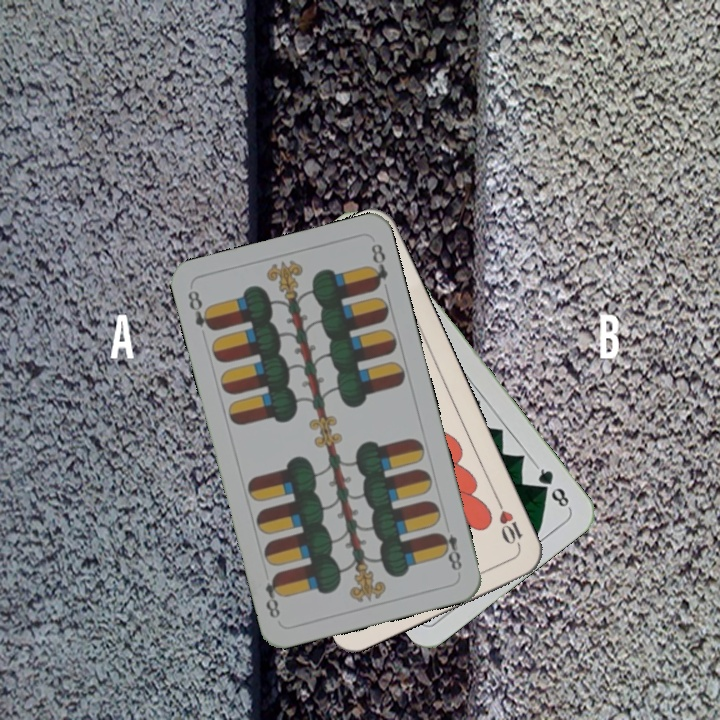E8: (184, 286, 217, 334), (434, 528, 465, 574)
G8: (531, 461, 573, 512)
H10: (492, 495, 526, 551)
